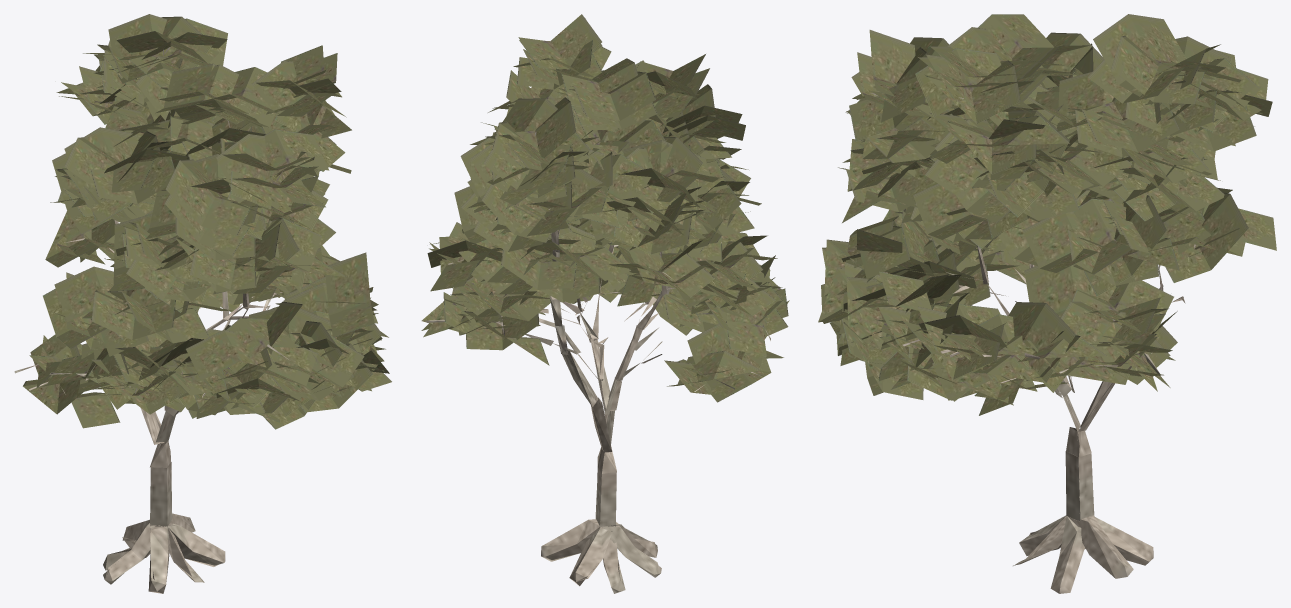
File: tree_1.obj
3 renders of one model, left to right at view 1: azimuth 30°, elevation 25°; view 2: azimuth 150°, elevation 25°; view 3: azimuth 270°, elevation 25°, orthographic. The views are drawn at different scales.
Parts seen in each view (by area): view 1: Sonnerat; view 2: Sonnerat; view 3: Sonnerat.
Boxes of the visible parts, x1=… form: Sonnerat: x1=14, y1=14, x2=391, y2=593; Sonnerat: x1=421, y1=14, x2=789, y2=593; Sonnerat: x1=818, y1=14, x2=1276, y2=593.
Size of the model in its own units: 0.6867 by 1.07 by 0.7694.
1 material, 1 textured.
